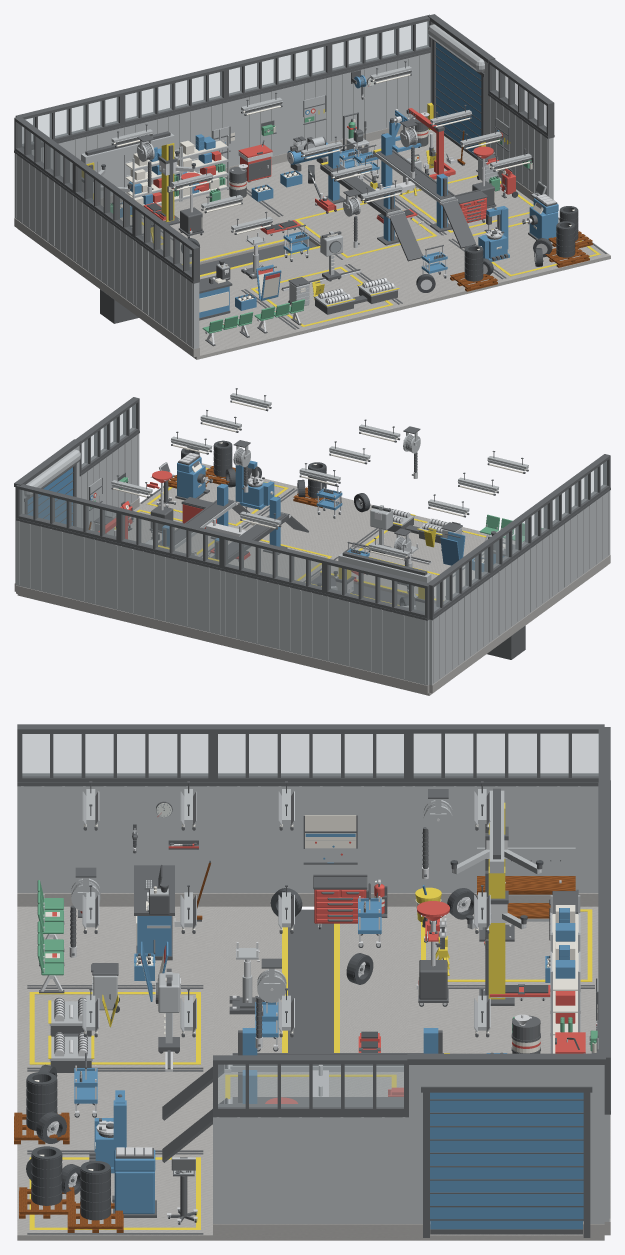
File: workshop.glb
3 views of the same model, one above another, from view 1: azimuth 30°, elevation 25°; view 2: azimuth 150°, elevation 25°; view 3: azimuth 270°, elevation 25° (orthographic). The views are drawn at different scales.
Visible parts, largest first — view 1: 026-car-repair-garage-and-mot-workshop-roller-shutter-door-m (×4), 069-car-repair-garage-and-mot-workshop-four-post-vehicle-lif (×3), 015-car-repair-garage-and-mot-workshop-workshop-wall-panel/1, 014-car-repair-garage-and-mot-workshop-workshop-wall-panel/1, 017-car-repair-garage-and-mot-workshop-workshop-window-strip (×2), 018-car-repair-garage-and-mot-workshop-workshop-window-strip (×2), 019-car-repair-garage-and-mot-workshop-workshop-window-strip (×2), 022-car-repair-garage-and-mot-workshop-workshop-wall-panel/1, 006-car-repair-garage-and-mot-workshop-floor-tile-plain/0, 020-car-repair-garage-and-mot-workshop-workshop-wall-panel/1, 021-car-repair-garage-and-mot-workshop-workshop-wall-panel/1, 016-car-repair-garage-and-mot-workshop-workshop-window-strip (×2) (+37 smaller); view 2: 012-car-repair-garage-and-mot-workshop-workshop-wall-panel/1, 015-car-repair-garage-and-mot-workshop-workshop-wall-panel/1, 014-car-repair-garage-and-mot-workshop-workshop-wall-panel/1, 013-car-repair-garage-and-mot-workshop-workshop-wall-panel/1, 016-car-repair-garage-and-mot-workshop-workshop-window-strip (×2), 019-car-repair-garage-and-mot-workshop-workshop-window-strip (×2), 017-car-repair-garage-and-mot-workshop-workshop-window-strip (×2), 018-car-repair-garage-and-mot-workshop-workshop-window-strip (×2), 020-car-repair-garage-and-mot-workshop-workshop-wall-panel/1, 022-car-repair-garage-and-mot-workshop-workshop-wall-panel/1, 021-car-repair-garage-and-mot-workshop-workshop-wall-panel/1, 006-car-repair-garage-and-mot-workshop-floor-tile-plain/0 (+29 smaller); view 3: 026-car-repair-garage-and-mot-workshop-roller-shutter-door-m (×4), 027-car-repair-garage-and-mot-workshop-workshop-wall-panel/1, 022-car-repair-garage-and-mot-workshop-workshop-wall-panel/1, 021-car-repair-garage-and-mot-workshop-workshop-wall-panel/1, 020-car-repair-garage-and-mot-workshop-workshop-wall-panel/1, 025-car-repair-garage-and-mot-workshop-workshop-window-strip (×2), 028-car-repair-garage-and-mot-workshop-workshop-window-strip (×2), 024-car-repair-garage-and-mot-workshop-workshop-window-strip (×2), 023-car-repair-garage-and-mot-workshop-workshop-window-strip (×2), 006-car-repair-garage-and-mot-workshop-floor-tile-plain/0, 001-car-repair-garage-and-mot-workshop-floor-tile-plain/0, 003-car-repair-garage-and-mot-workshop-floor-tile-marked/0 (+55 smaller).
Part boxes in pixels (x1,y1,x2,y2): 026-car-repair-garage-and-mot-workshop-roller-shutter-door-m (×4): (428,14,495,159); 069-car-repair-garage-and-mot-workshop-four-post-vehicle-lif (×3): (320,133,475,261); 015-car-repair-garage-and-mot-workshop-workshop-wall-panel/1: (329,53,430,142); 014-car-repair-garage-and-mot-workshop-workshop-wall-panel/1: (226,77,329,167); 017-car-repair-garage-and-mot-workshop-workshop-window-strip (×2): (119,65,226,125); 018-car-repair-garage-and-mot-workshop-workshop-window-strip (×2): (223,40,329,100); 019-car-repair-garage-and-mot-workshop-workshop-window-strip (×2): (327,14,430,74); 022-car-repair-garage-and-mot-workshop-workshop-wall-panel/1: (134,241,199,348); 006-car-repair-garage-and-mot-workshop-floor-tile-plain/0: (344,237,507,309); 020-car-repair-garage-and-mot-workshop-workshop-wall-panel/1: (14,153,74,261); 021-car-repair-garage-and-mot-workshop-workshop-wall-panel/1: (74,197,134,304); 016-car-repair-garage-and-mot-workshop-workshop-window-strip (×2): (15,90,122,148); 012-car-repair-garage-and-mot-workshop-workshop-wall-panel/1: (325,596,429,685); 015-car-repair-garage-and-mot-workshop-workshop-wall-panel/1: (16,520,119,610); 014-car-repair-garage-and-mot-workshop-workshop-wall-panel/1: (119,546,221,635); 013-car-repair-garage-and-mot-workshop-workshop-wall-panel/1: (222,571,324,660); 016-car-repair-garage-and-mot-workshop-workshop-window-strip (×2): (324,558,429,618); 019-car-repair-garage-and-mot-workshop-workshop-window-strip (×2): (16,484,121,543); 017-car-repair-garage-and-mot-workshop-workshop-window-strip (×2): (221,533,327,593); 018-car-repair-garage-and-mot-workshop-workshop-window-strip (×2): (119,508,224,568); 020-car-repair-garage-and-mot-workshop-workshop-wall-panel/1: (429,578,491,685); 022-car-repair-garage-and-mot-workshop-workshop-wall-panel/1: (550,490,610,597); 021-car-repair-garage-and-mot-workshop-workshop-wall-panel/1: (491,534,550,641); 006-car-repair-garage-and-mot-workshop-floor-tile-plain/0: (241,488,378,554); 026-car-repair-garage-and-mot-workshop-roller-shutter-door-m (×4): (407,1053,605,1237); 027-car-repair-garage-and-mot-workshop-workshop-wall-panel/1: (213,1117,408,1223); 022-car-repair-garage-and-mot-workshop-workshop-wall-panel/1: (17,786,212,892); 021-car-repair-garage-and-mot-workshop-workshop-wall-panel/1: (213,786,408,892); 020-car-repair-garage-and-mot-workshop-workshop-wall-panel/1: (409,786,598,892); 025-car-repair-garage-and-mot-workshop-workshop-window-strip (×2): (17,724,212,782); 028-car-repair-garage-and-mot-workshop-workshop-window-strip (×2): (213,1055,408,1113); 024-car-repair-garage-and-mot-workshop-workshop-window-strip (×2): (213,724,408,782); 023-car-repair-garage-and-mot-workshop-workshop-window-strip (×2): (409,724,604,782); 006-car-repair-garage-and-mot-workshop-floor-tile-plain/0: (17,1069,212,1152); 001-car-repair-garage-and-mot-workshop-floor-tile-plain/0: (17,906,212,986); 003-car-repair-garage-and-mot-workshop-floor-tile-marked/0: (17,987,212,1069).
Size of the model in its own units: 16.27 by 5.05 by 12.2.
12 materials, 2 textured.
